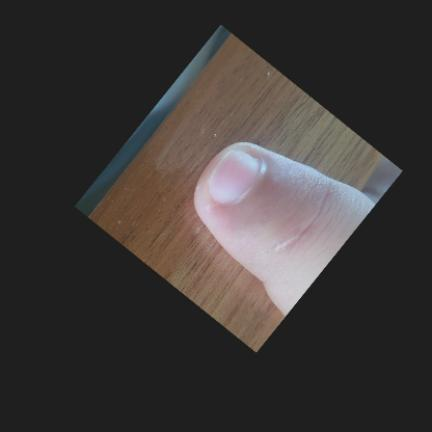Nail: (209, 150, 259, 205)
